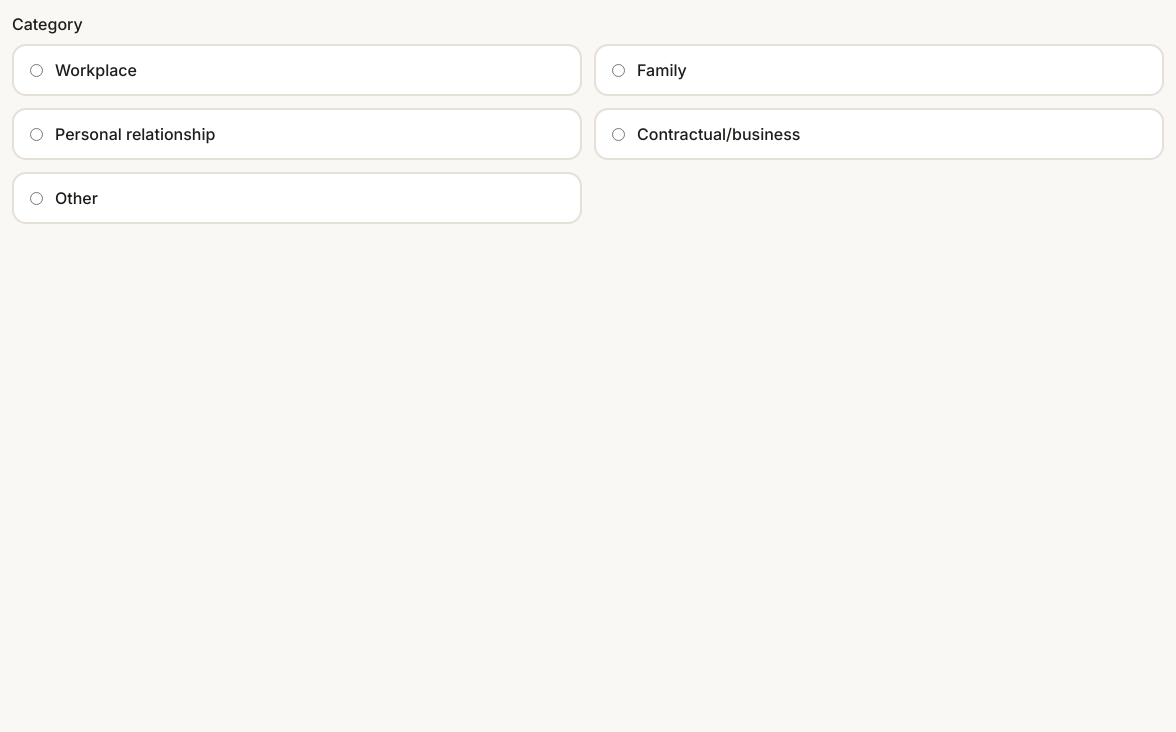
AC3: Description step — privacy pattern and auto-grow textarea › shows a lock icon in the Description step
Click the radio button labelled "Workplace": (36,70) [30,64,43,76]
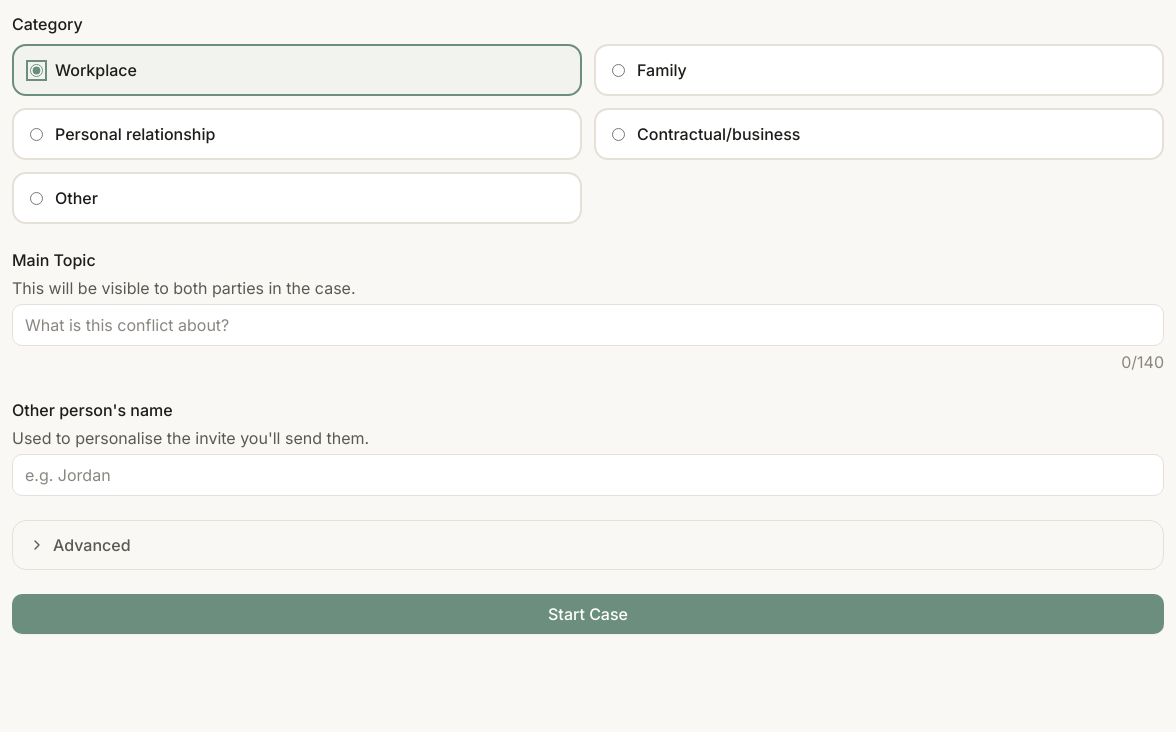
In the field labelled "Main Topic": (588,325) [12,304,1164,346], type "Test topic"
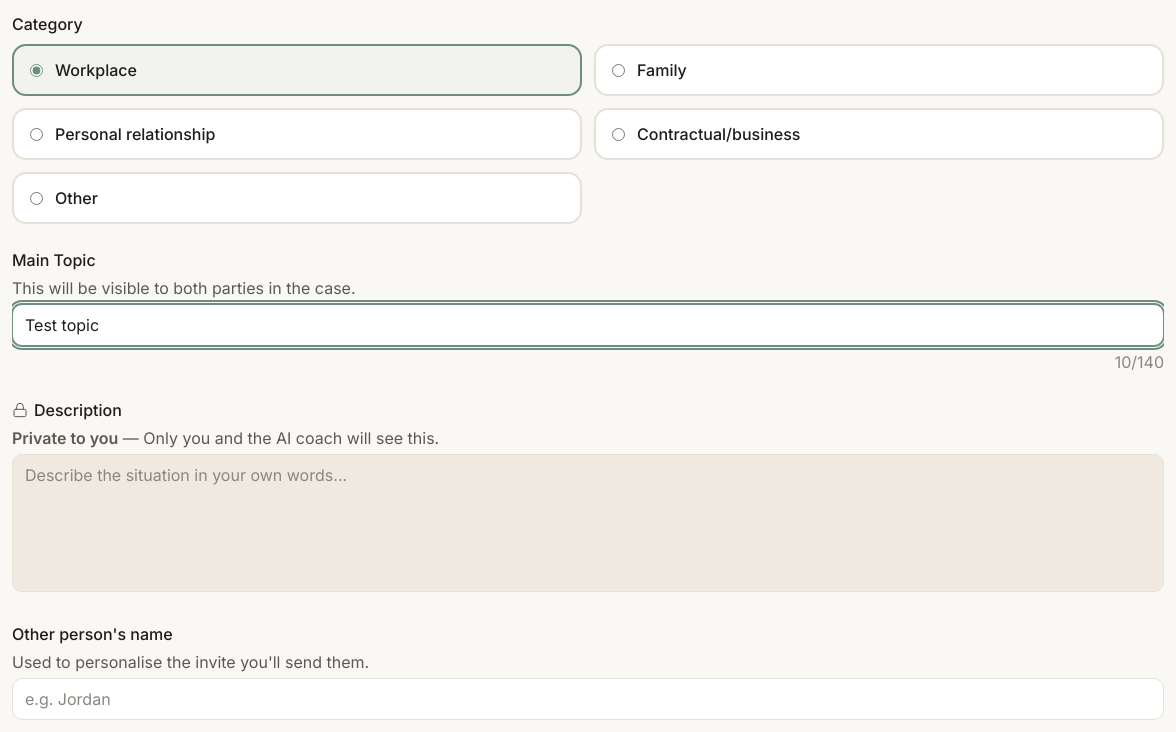
Now the icon named "Only you and the AI coach will see this." is shown, box [12,402,28,418]
